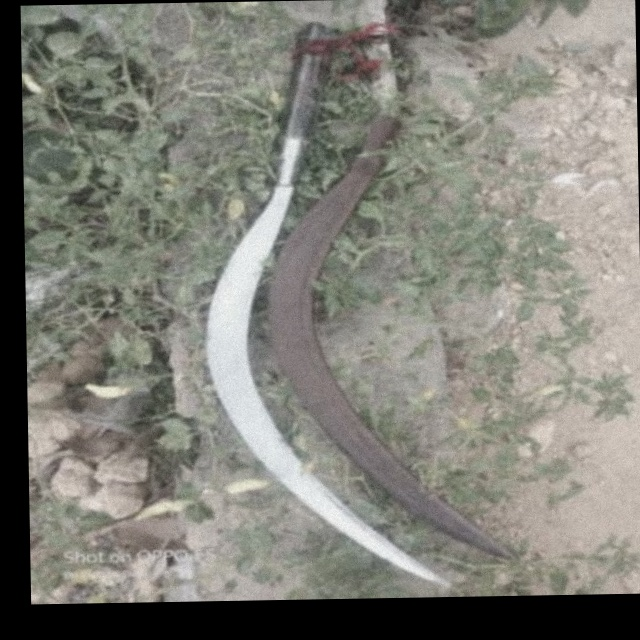Sharp-Object: (206, 23, 431, 589)
